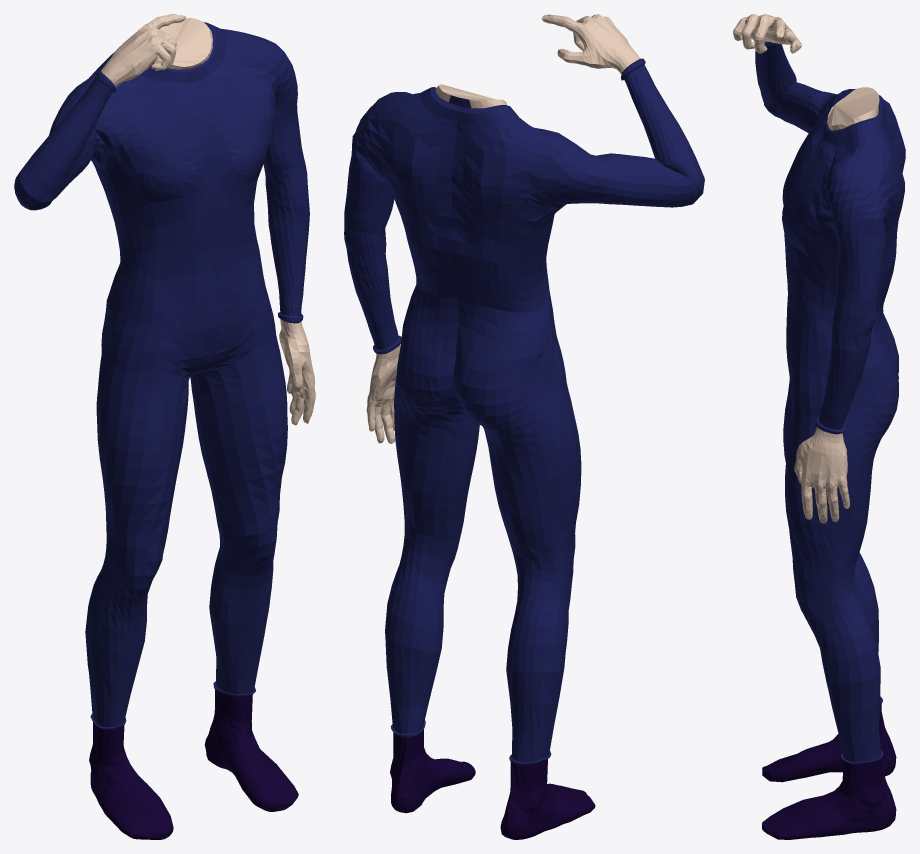
The model's file is Commander_Male_Emporer_Reduced.fbx.
3 renders of one model, left to right at view 1: azimuth 30°, elevation 25°; view 2: azimuth 150°, elevation 25°; view 3: azimuth 270°, elevation 25°, orthographic. The views are drawn at different scales.
Parts seen in each view (by area): view 1: Commander_Male_Standing_Pointing; view 2: Commander_Male_Standing_Pointing; view 3: Commander_Male_Standing_Pointing.
Part boxes in pixels (x1,y1,x2,y2): Commander_Male_Standing_Pointing: [14, 14, 315, 839]; Commander_Male_Standing_Pointing: [344, 14, 704, 839]; Commander_Male_Standing_Pointing: [733, 14, 905, 839].
Bounding box in the file's own units: 70.34 × 168 × 34.54.
